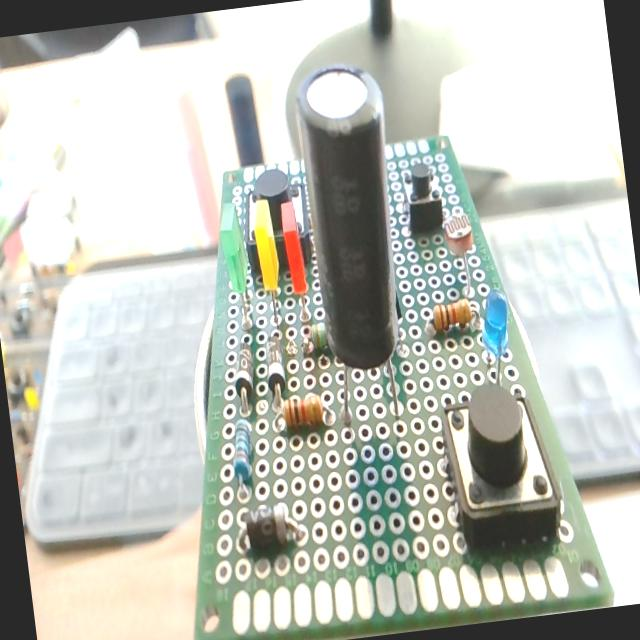Electrolytic capacitor: (288, 57, 424, 434)
cds: (439, 205, 483, 302)
diode: (231, 497, 310, 563), (228, 336, 260, 416), (261, 330, 290, 405)
led: (215, 195, 258, 335), (247, 191, 290, 329), (472, 287, 526, 388), (277, 192, 317, 328)
resistor: (218, 411, 263, 498), (266, 391, 337, 435), (416, 294, 484, 338)
switch: (428, 372, 572, 572), (395, 154, 450, 240)
